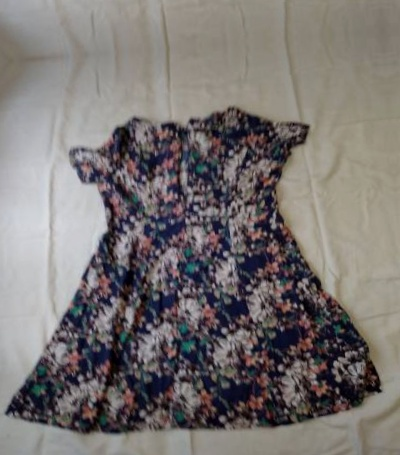Dress: (0, 86, 396, 451), (0, 0, 360, 8)
